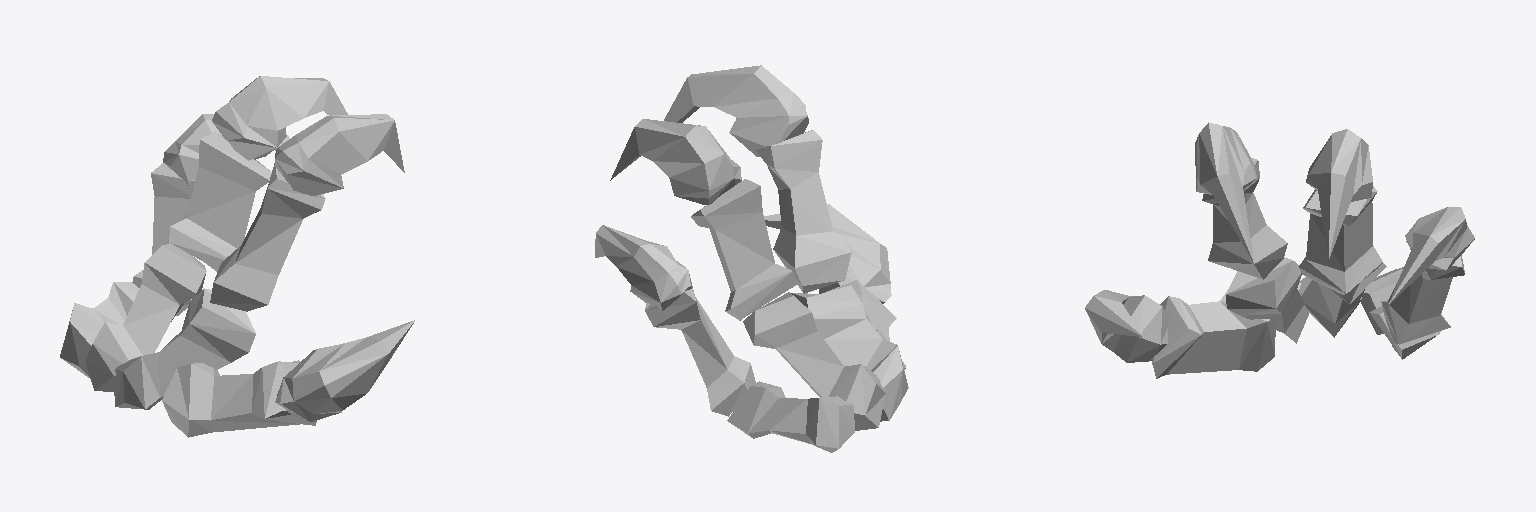
File: db_dragonclaw01_leftblue.obj
3 renders of one model, left to right at view 1: azimuth 30°, elevation 25°; view 2: azimuth 150°, elevation 25°; view 3: azimuth 270°, elevation 25°, orthographic.
Visible parts, largest first — view 1: db_dragonclaw01_leftblue; view 2: db_dragonclaw01_leftblue; view 3: db_dragonclaw01_leftblue.
Boxes of the visible parts, x1=… form: db_dragonclaw01_leftblue: x1=60, y1=76, x2=414, y2=437; db_dragonclaw01_leftblue: x1=595, y1=65, x2=908, y2=452; db_dragonclaw01_leftblue: x1=1085, y1=122, x2=1474, y2=378.
Bounding box in the file's own units: 2.3 × 2.49 × 2.86.